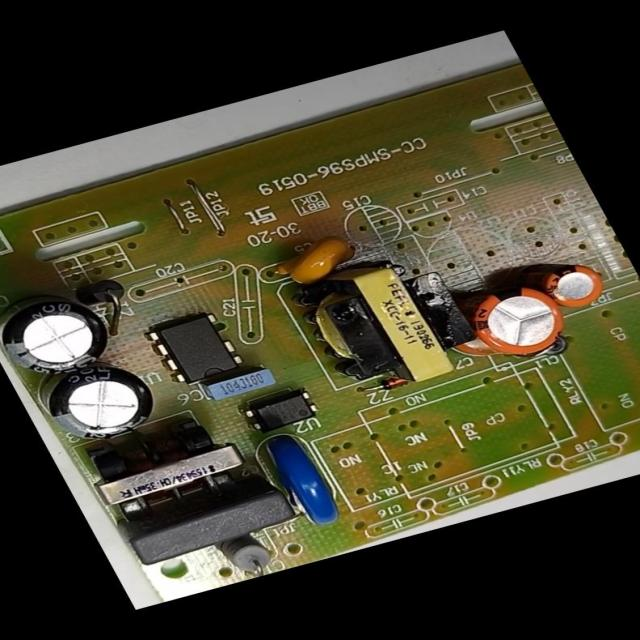Cap1: (450, 274, 575, 366)
Cap2: (538, 258, 614, 312)
Cap3: (31, 355, 169, 452)
Cap4: (0, 288, 124, 382)
MOSFET: (144, 308, 248, 386)
Mov: (264, 430, 347, 529)
Resistor: (210, 530, 282, 583)
Transformer: (282, 247, 490, 401), (74, 415, 257, 523)
